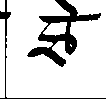e_matra: (55, 0, 82, 16)
